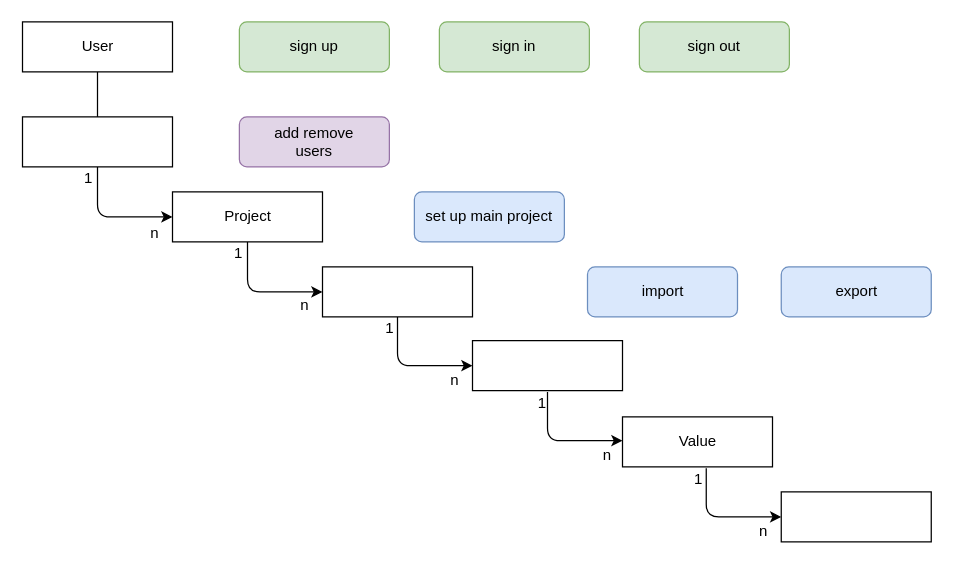
This 953x573 diagram has some shape labels left out. Here are the shapes that lost their labels. From the top down, the centre of each, then its label:
At [96,141]: "Company".
At [396,291]: "Property".
At [546,365]: "Language".
At [855,516]: "Comment".
